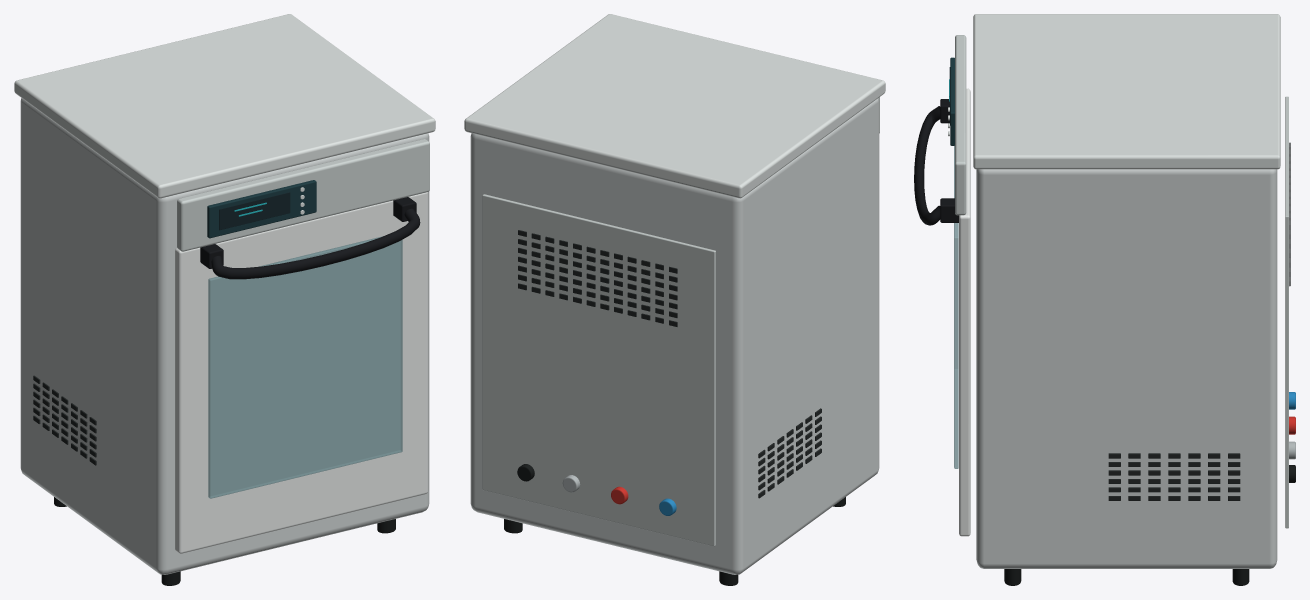
File: glassware-washer.glb
3 views of the same model, side by side, from view 1: azimuth 30°, elevation 25°; view 2: azimuth 150°, elevation 25°; view 3: azimuth 270°, elevation 25° (orthographic). The views are drawn at different scales.
Visible parts, largest first — view 1: Runtime batch - Cool white instrument polymer, Runtime batch - Clean brushed chamber stainless, Runtime batch - Light bead-blasted aluminum, Runtime batch - Washer observation glass, Runtime batch - Light instrument gray powder coat, Runtime batch - Matte black coated handle, Runtime batch - Smoked control display, Runtime batch - Casework seam shadow, Runtime batch - Smoked instrument display glass; view 2: Runtime batch - Clean brushed chamber stainless, Runtime batch - Light instrument gray powder coat, Runtime batch - Light bead-blasted aluminum, Runtime batch - Casework seam shadow, Runtime batch - Black leveling-foot rubber; view 3: Runtime batch - Clean brushed chamber stainless, Runtime batch - Light bead-blasted aluminum, Runtime batch - Cool white instrument polymer, Runtime batch - Light instrument gray powder coat, Runtime batch - Casework seam shadow, Runtime batch - Matte black coated handle, Runtime batch - Washer observation glass, Runtime batch - Black leveling-foot rubber.
Part boxes in pixels (x1=…): Runtime batch - Cool white instrument polymer: x1=175, y1=192, x2=428, y2=553; Runtime batch - Clean brushed chamber stainless: x1=20, y1=98, x2=429, y2=574; Runtime batch - Light bead-blasted aluminum: x1=14, y1=14, x2=435, y2=214; Runtime batch - Washer observation glass: x1=208, y1=236, x2=402, y2=498; Runtime batch - Light instrument gray powder coat: x1=177, y1=139, x2=429, y2=251; Runtime batch - Matte black coated handle: x1=200, y1=197, x2=420, y2=279; Runtime batch - Smoked control display: x1=207, y1=180, x2=316, y2=238; Runtime batch - Casework seam shadow: x1=33, y1=375, x2=96, y2=465; Runtime batch - Smoked instrument display glass: x1=219, y1=192, x2=290, y2=230; Runtime batch - Clean brushed chamber stainless: x1=470, y1=98, x2=879, y2=574; Runtime batch - Light instrument gray powder coat: x1=482, y1=97, x2=879, y2=546; Runtime batch - Light bead-blasted aluminum: x1=464, y1=14, x2=885, y2=198; Runtime batch - Casework seam shadow: x1=518, y1=230, x2=821, y2=498; Runtime batch - Black leveling-foot rubber: x1=504, y1=464, x2=845, y2=585; Runtime batch - Clean brushed chamber stainless: x1=976, y1=169, x2=1277, y2=568; Runtime batch - Light bead-blasted aluminum: x1=948, y1=14, x2=1280, y2=169; Runtime batch - Cool white instrument polymer: x1=959, y1=88, x2=970, y2=536; Runtime batch - Light instrument gray powder coat: x1=955, y1=35, x2=1288, y2=528; Runtime batch - Casework seam shadow: x1=1108, y1=142, x2=1290, y2=500; Runtime batch - Matte black coated handle: x1=914, y1=99, x2=958, y2=225; Runtime batch - Washer observation glass: x1=954, y1=145, x2=958, y2=468; Runtime batch - Black leveling-foot rubber: x1=1004, y1=465, x2=1295, y2=585.
Bounding box in the file's own units: 0.61 × 0.876 × 0.686.
